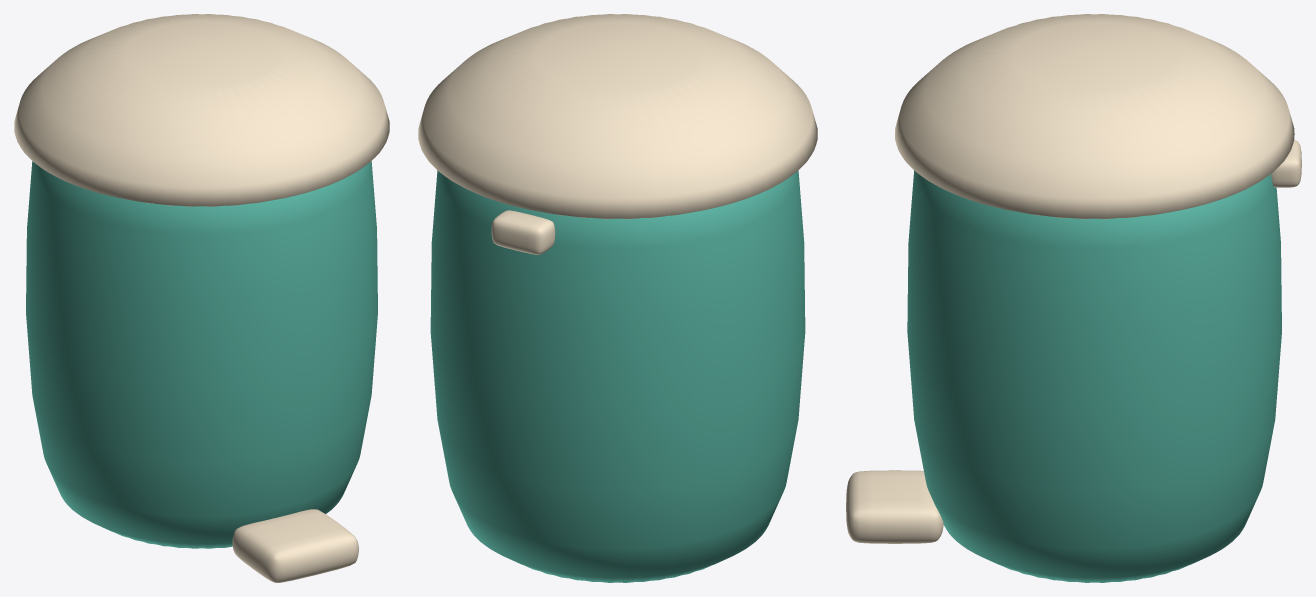
Rendered from bin_a.glb.
The picture shows the model from 3 angles, left to right: view 1: azimuth 30°, elevation 25°; view 2: azimuth 150°, elevation 25°; view 3: azimuth 270°, elevation 25°; orthographic projection. The views are drawn at different scales.
Visible parts, largest first — view 1: body, lid; view 2: body, lid; view 3: body, lid.
Part boxes in pixels (x1,y1,x2,y2): body: [26, 161, 377, 582]; lid: [14, 14, 389, 206]; body: [430, 170, 805, 582]; lid: [418, 14, 817, 219]; body: [846, 140, 1301, 582]; lid: [895, 14, 1294, 219].
Size of the model in its own units: 0.3857 by 0.5187 by 0.44.
